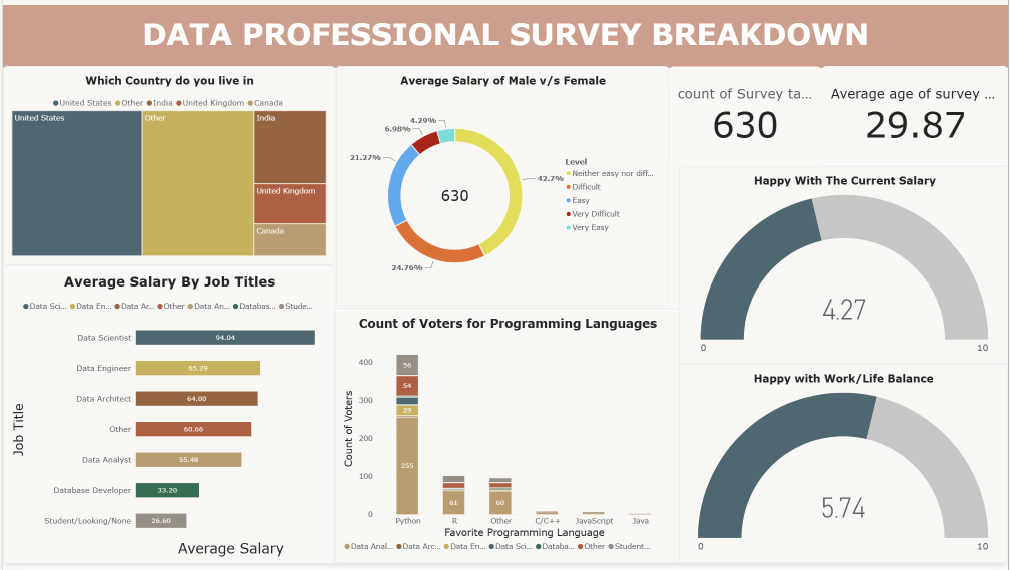

What the dashboard file says about the page in this screenshot:
{"tool":"powerbi","page":{"name":"Page 1","canvas":[1920,1080],"ordinal":0},"visuals":[{"type":"textbox","box":[0,15,1920,120],"z":0},{"type":"cardVisual","fields":{"Data":["CountNonNull(Data Professional Survey.Unique ID)"]},"box":[1272.5,132.5,292.5,190],"z":1000},{"type":"cardVisual","fields":{"Data":["Avg(Data Professional Survey.Q10 - Current Age)"]},"box":[1565,132.5,355,187.5],"z":2000},{"type":"barChart","title":"Average Salary By Job Titles","fields":{"Category":["Data Professional Survey.Q1 - Which Title Best Fits your Current Role?.1"],"Series":["Data Professional Survey.Q1 - Which Title Best Fits your Current Role?.1"],"Y":["Avg(Data Professional Survey.Average Salary)"]},"box":[0,512.5,635,572.5],"z":3000},{"type":"columnChart","title":"Count of Voters for Programming Languages","fields":{"Category":["Data Professional Survey.Q5 - Favorite Programming Language.1"],"Series":["Data Professional Survey.Q1 - Which Title Best Fits your Current Role?.1"],"Y":["CountNonNull(Data Professional Survey.Unique ID)"]},"box":[635,592.5,657.5,487.5],"z":4000},{"type":"treemap","title":"Which Country do you live in ","fields":{"Group":["Data Professional Survey.Q11 - Which Country do you live in?.1"],"Values":["CountNonNull(Data Professional Survey.Q11 - Which Country do you live in?.1)"]},"box":[0,132.5,635,380],"z":5000},{"type":"gauge","title":" Happy With The Current Salary","fields":{"MaxValue":["Max(Data Professional Survey.Q6 - How Happy are you in your Current Position with the following? (Salary))"],"MinValue":["Min(Data Professional Survey.Q6 - How Happy are you in your Current Position with the following? (Salary))"],"Y":["Avg(Data Professional Survey.Q6 - How Happy are you in your Current Position with the following? (Salary))"]},"box":[1290,322.5,632.5,377.5],"z":6000},{"type":"gauge","title":"Happy with Work/Life Balance","fields":{"MaxValue":["Max(Data Professional Survey.Q6 - How Happy are you in your Current Position with the following? (Work/Life Balance))"],"MinValue":["Min(Data Professional Survey.Q6 - How Happy are you in your Current Position with the following? (Work/Life Balance))"],"Y":["Avg(Data Professional Survey.Q6 - How Happy are you in your Current Position with the following? (Work/Life Balance))"]},"box":[1290,700,627.5,380],"z":7000},{"type":"donutChart","title":"Average Salary of Male v/s Female","fields":{"Category":["Data Professional Survey.Q7 - How difficult was it for you to break into Data?"],"Y":["CountNonNull(Data Professional Survey.Q7 - How difficult was it for you to break into Data?)"]},"box":[637.5,132.5,635,457.5],"z":7001}]}

Visuals, with their boxes in screenshot pixels (x1, y1, x2, y2), scaled from the page's 1920x1080 canvas onto the 1010x570 screenshot:
textbox: x1=0 y1=8 x2=1009 y2=71
cardVisual - CountNonNull(Data Professional Survey.Unique ID): x1=669 y1=70 x2=823 y2=170
cardVisual - Avg(Data Professional Survey.Q10 - Current Age): x1=823 y1=70 x2=1009 y2=169
"Average Salary By Job Titles" barChart: x1=0 y1=270 x2=334 y2=569
"Count of Voters for Programming Languages" columnChart: x1=334 y1=313 x2=680 y2=569
"Which Country do you live in " treemap: x1=0 y1=70 x2=334 y2=270
" Happy With The Current Salary" gauge: x1=679 y1=170 x2=1009 y2=369
"Happy with Work/Life Balance" gauge: x1=679 y1=369 x2=1009 y2=569
"Average Salary of Male v/s Female" donutChart: x1=335 y1=70 x2=669 y2=311
